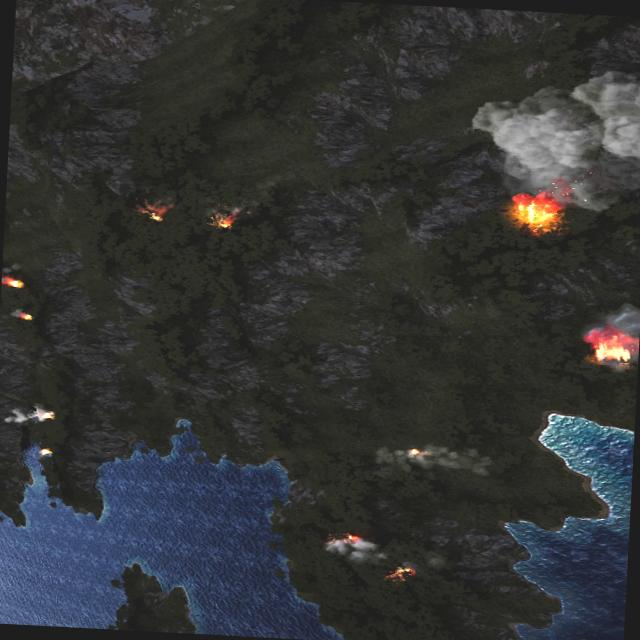fire: (584, 327, 640, 367), (509, 193, 564, 233), (137, 200, 170, 222), (209, 208, 240, 228), (384, 563, 416, 581), (1, 274, 27, 288), (344, 530, 362, 542), (408, 446, 422, 455), (39, 446, 54, 453), (22, 311, 34, 318), (46, 408, 56, 414)
smoke: (468, 25, 640, 210), (362, 436, 494, 475), (322, 534, 387, 563), (2, 400, 46, 424)
